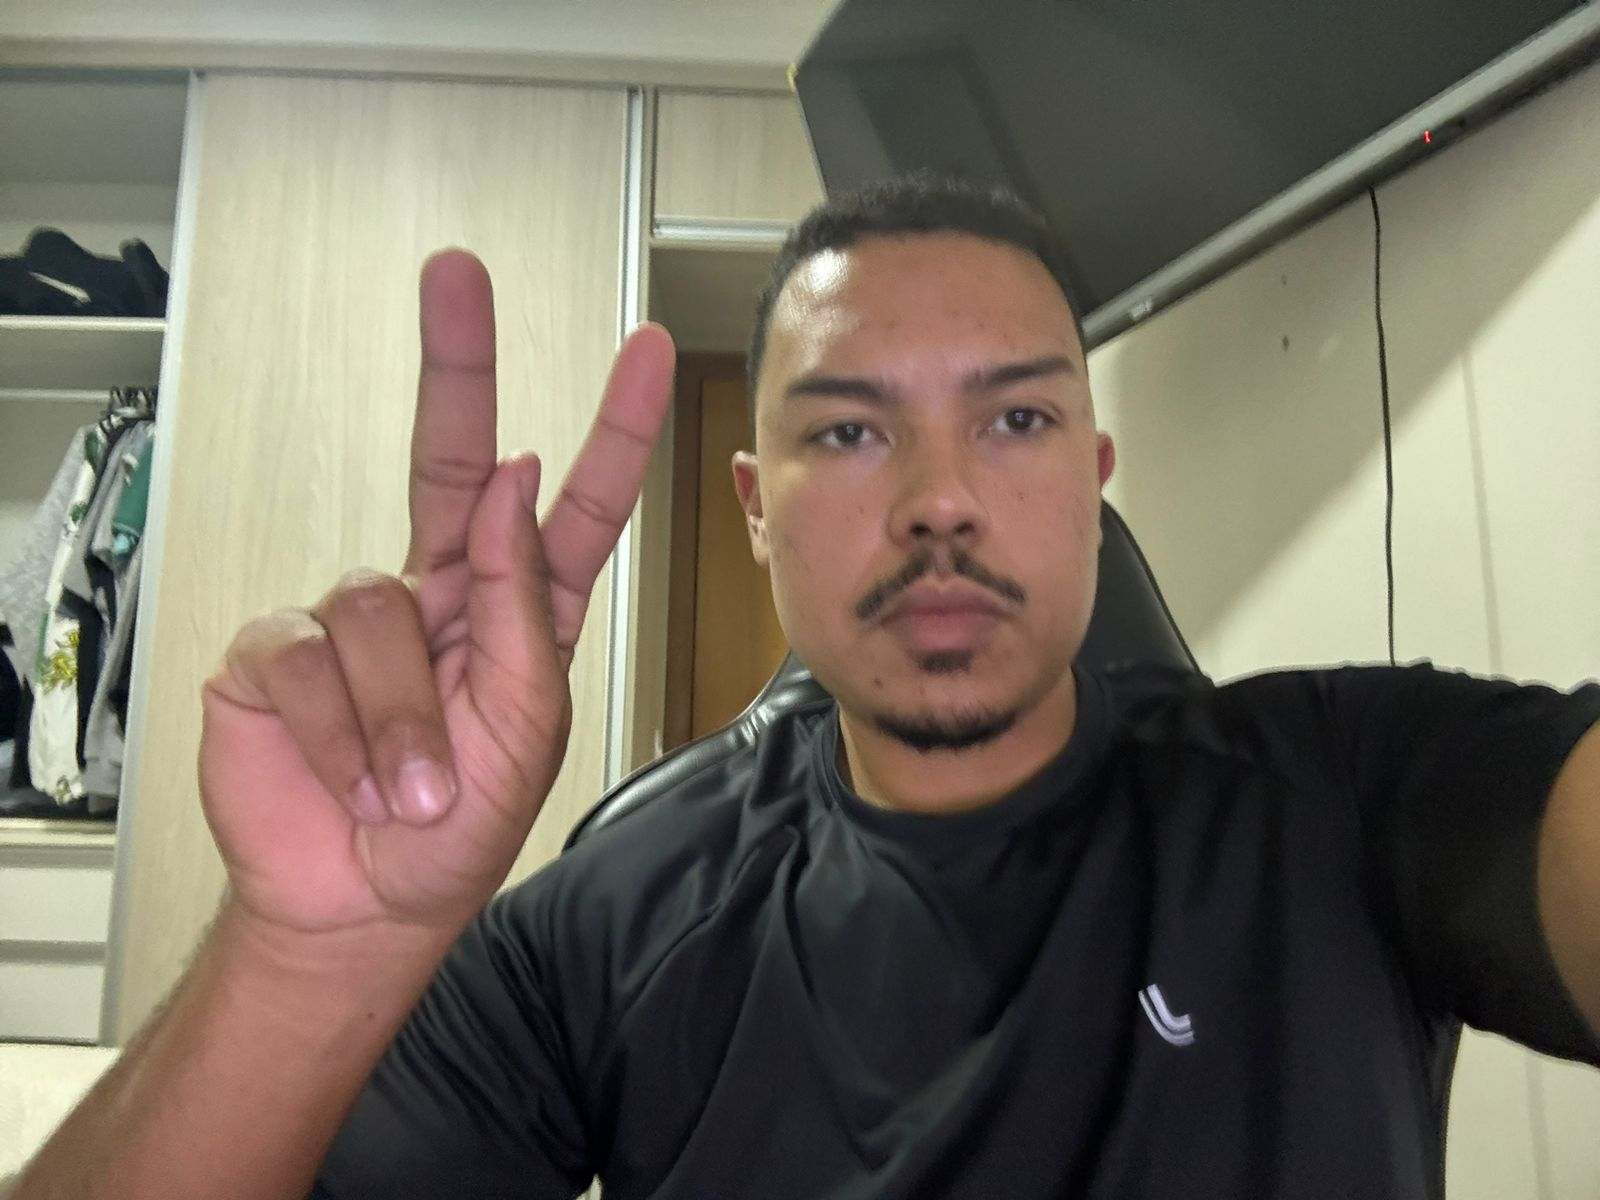k: (184, 237, 682, 945)
